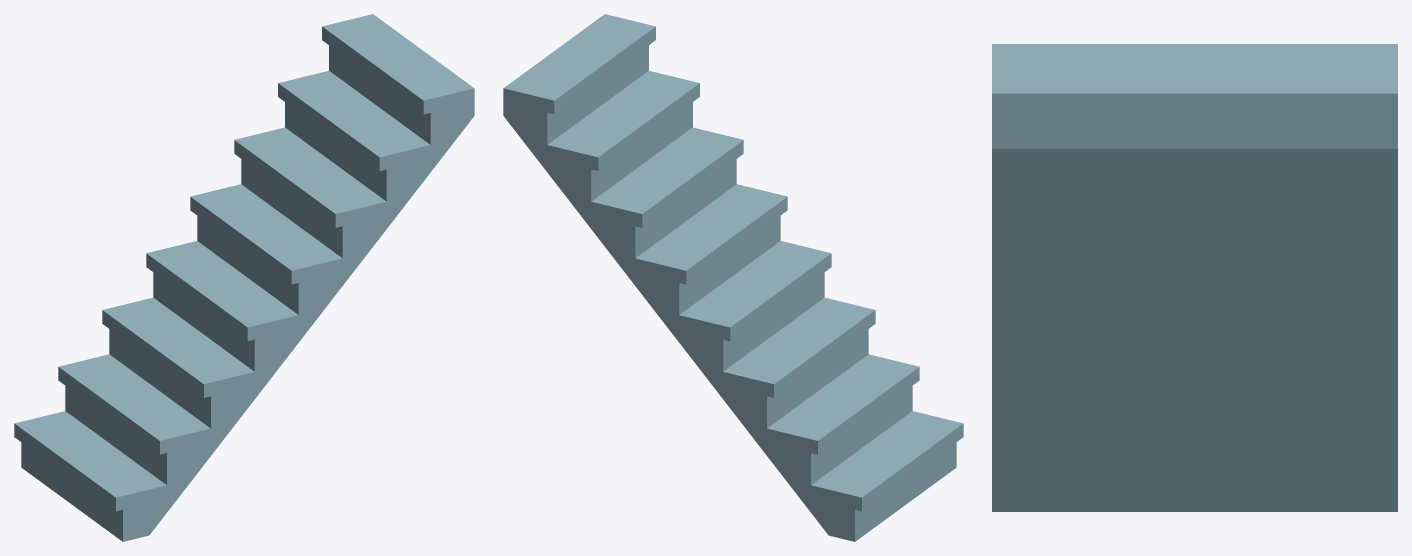
Rendered from stairsStone.obj.
3 renders of one model, left to right at view 1: azimuth 30°, elevation 25°; view 2: azimuth 150°, elevation 25°; view 3: azimuth 270°, elevation 25°, orthographic. The views are drawn at different scales.
Visible parts, largest first — view 1: stairsStone; view 2: stairsStone; view 3: stairsStone.
Boxes of the visible parts, x1,y1,x2,y2 form: stairsStone: (14, 14, 474, 541); stairsStone: (503, 14, 963, 541); stairsStone: (992, 44, 1397, 511).
Bounding box in the file's own units: 1.02 × 1 × 0.5.
